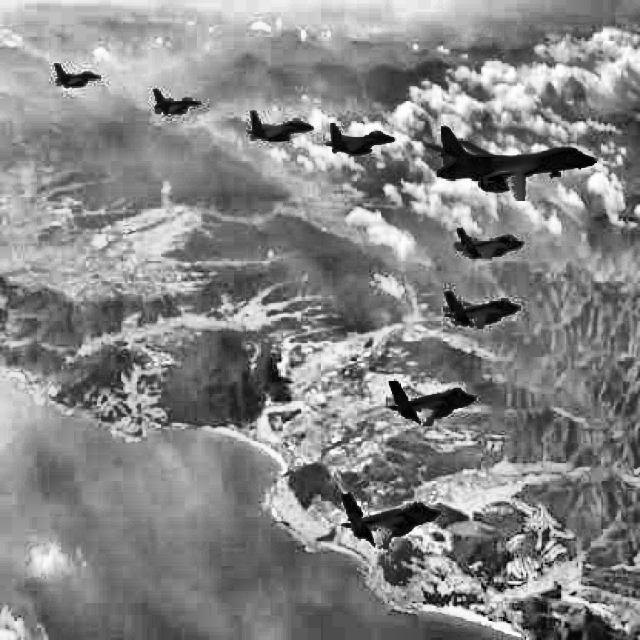B1: (422, 126, 596, 202)
F15: (326, 121, 396, 154), (246, 110, 314, 142)
F16: (152, 89, 202, 116), (53, 63, 101, 88)
F35: (335, 493, 440, 553), (384, 378, 476, 428), (442, 290, 520, 330), (453, 227, 524, 261)
